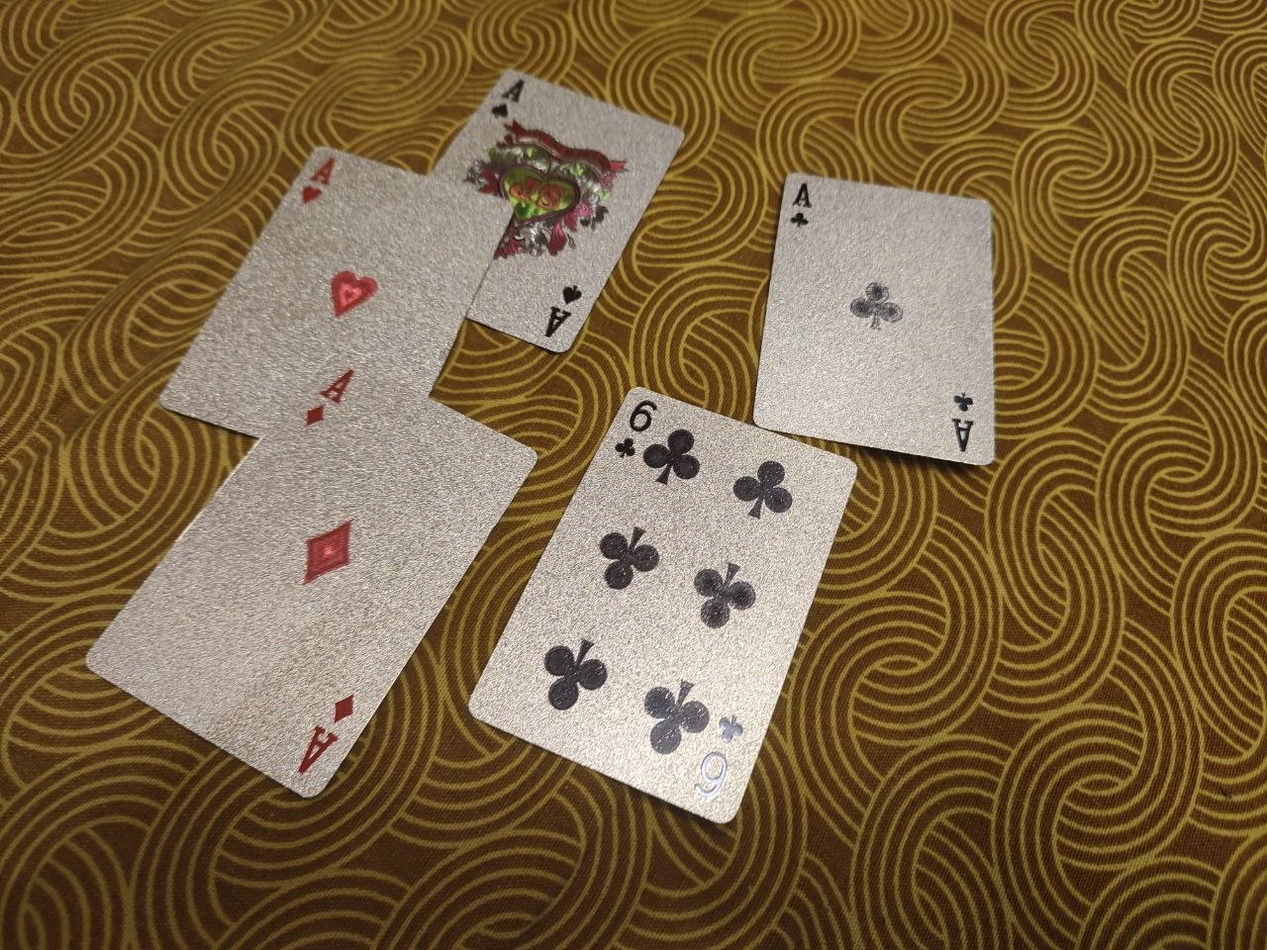6C: (465, 384, 860, 823)
AC: (752, 170, 996, 467)
AD: (82, 354, 538, 796)
AH: (160, 145, 515, 438)
AS: (428, 66, 685, 353)
